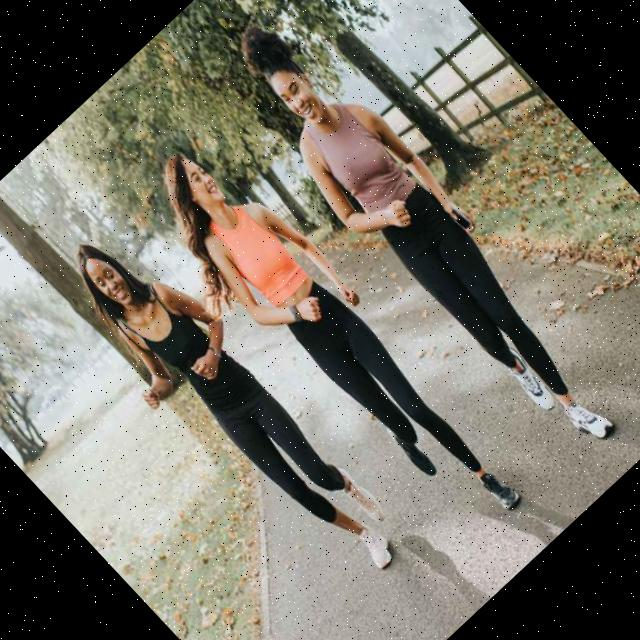Person: (202, 3, 640, 470), (116, 127, 538, 568)
